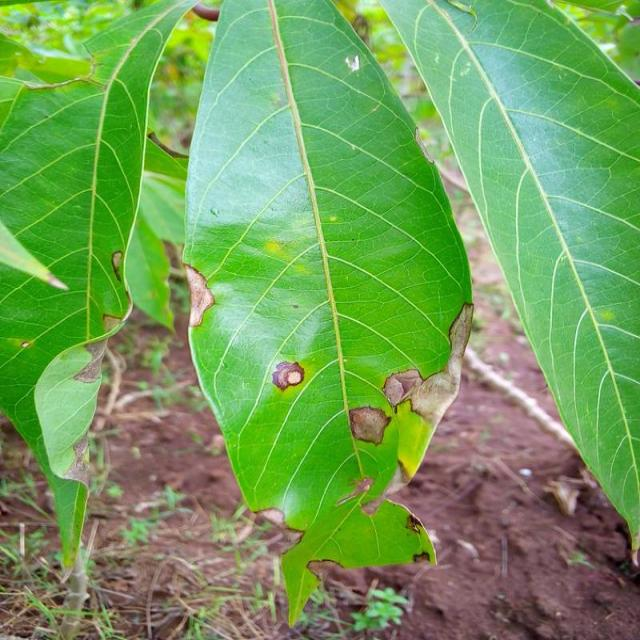cassava leaf: (182, 0, 475, 626), (380, 0, 640, 564), (2, 0, 200, 572)
